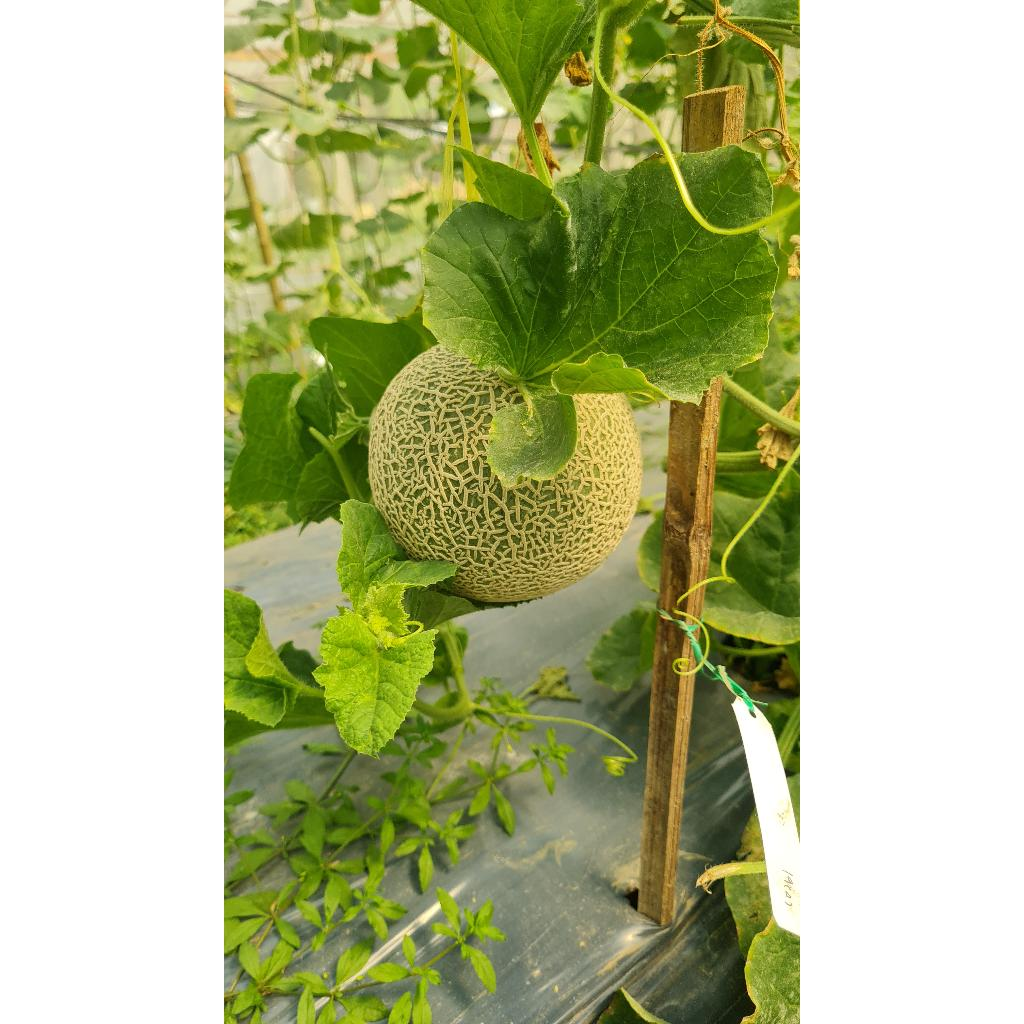melon: (368, 346, 642, 602)
